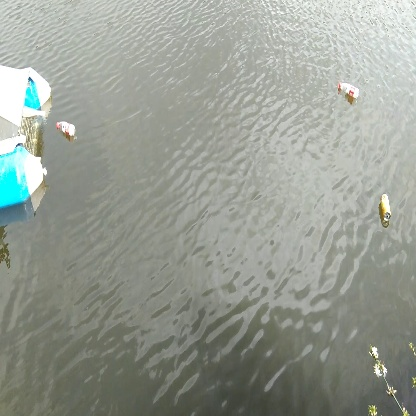bottle: (378, 190, 394, 227), (335, 79, 361, 100), (55, 119, 80, 137)
